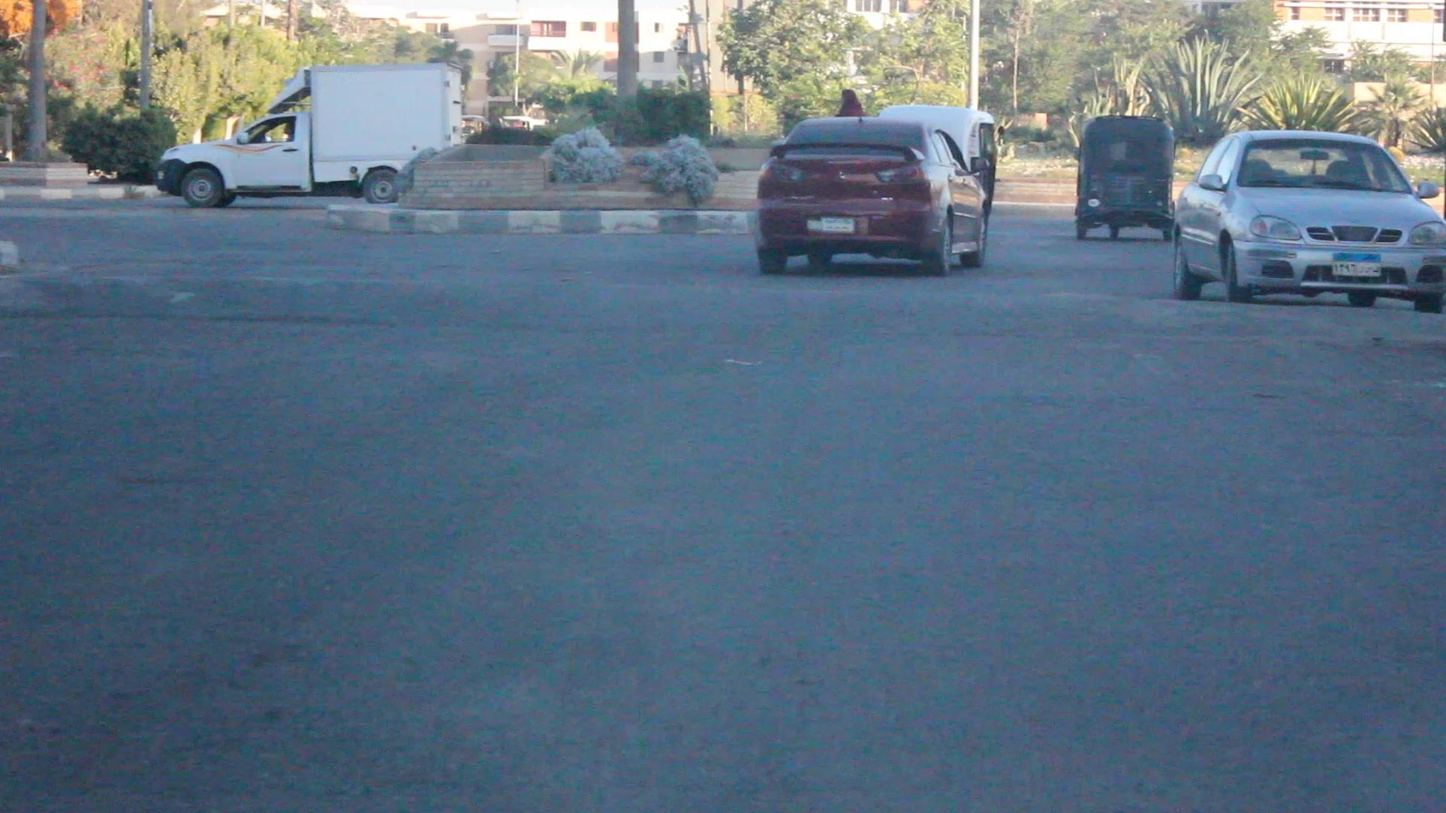Bump: (9, 269, 1445, 355)
